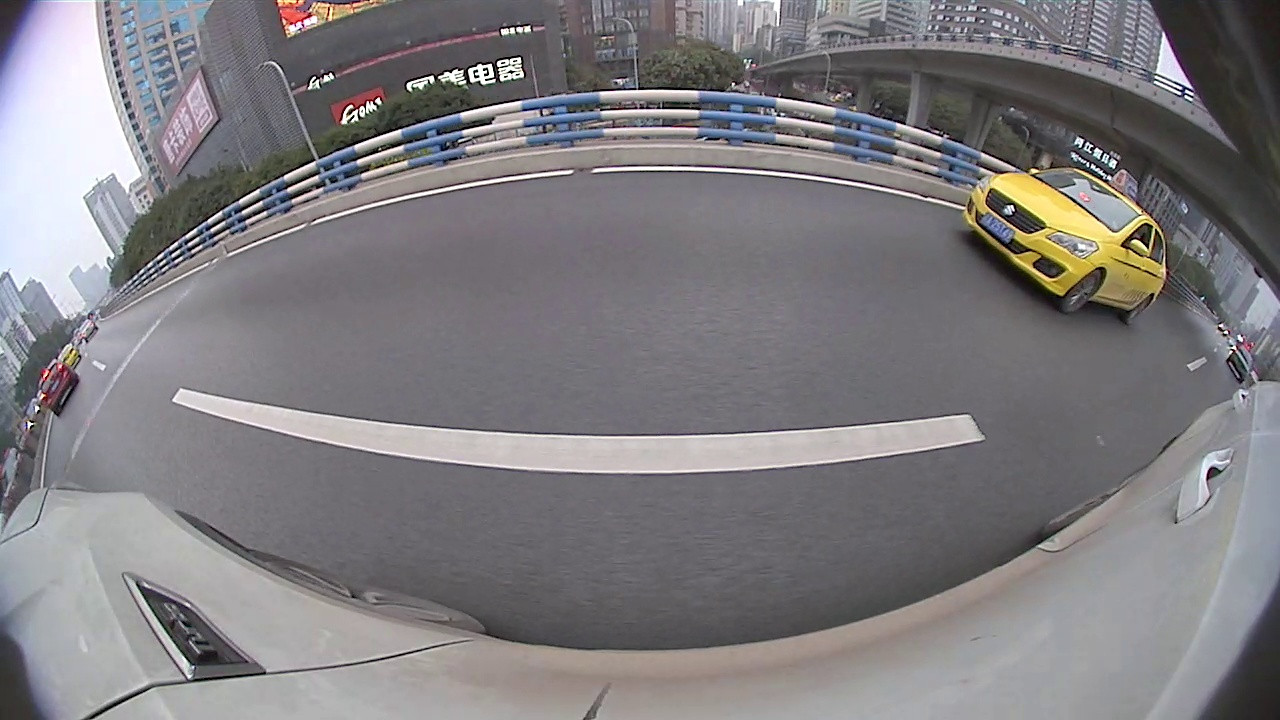bus: (685, 148, 731, 184)
car: (980, 184, 1279, 438), (887, 182, 1005, 250), (475, 154, 570, 214), (724, 145, 813, 205), (621, 145, 693, 209), (810, 164, 863, 205), (566, 157, 602, 192), (687, 159, 709, 181)
front: (993, 243, 1061, 317), (887, 198, 909, 224), (724, 175, 735, 193)
rear: (962, 218, 986, 249), (750, 174, 764, 201), (544, 183, 554, 205)
